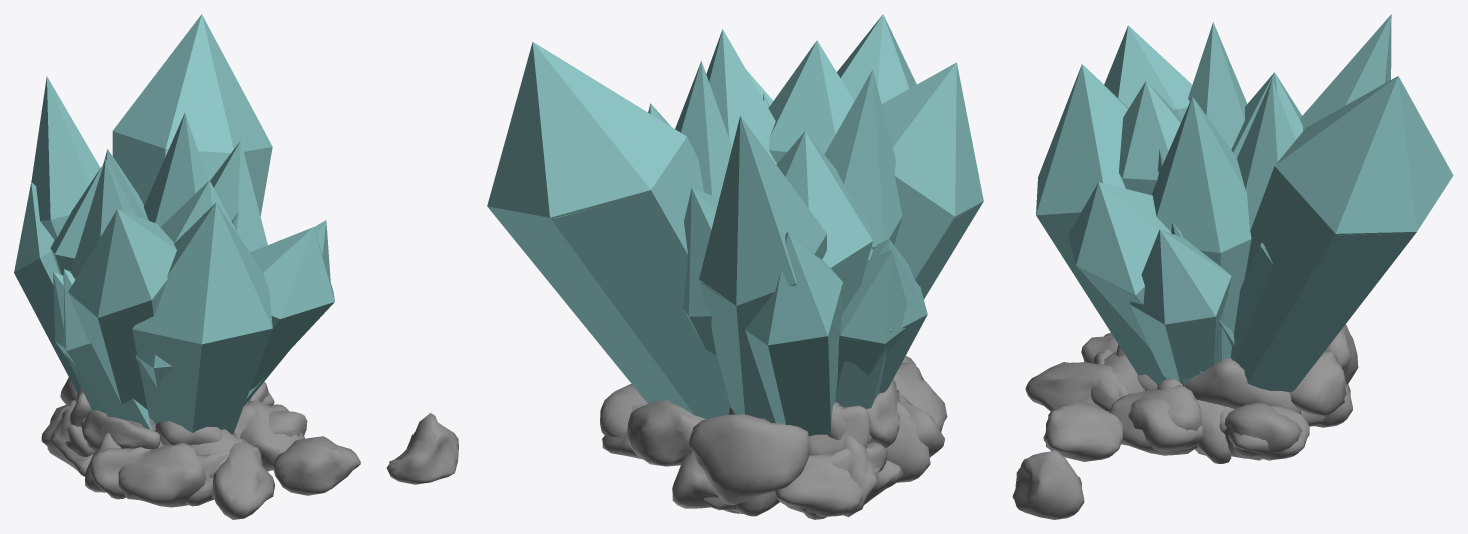
Rendered from Crystals.fbx.
3 views of the same model, side by side, from view 1: azimuth 30°, elevation 25°; view 2: azimuth 150°, elevation 25°; view 3: azimuth 270°, elevation 25° (orthographic). The views are drawn at different scales.
Parts seen in each view (by area): view 1: crystal_2, crystal_2_bevel, crystal_1, crystal_5, crystal_4, crystal_1_bevel, rocks_3, rock_1, crystal_4_bevel, rocks_5, rocks_2, rock_3 (+8 smaller); view 2: crystal_2, crystal_2_bevel, crystal_5, crystal_1, rocks_5, crystal_4, crystal_1_bevel, crystal_3, rocks_2, crystal_6, crystal_5_bevel, crystal_6_bevel (+5 smaller); view 3: crystal_2, crystal_2_bevel, crystal_4, crystal_3, crystal_5, rocks_5, crystal_4_bevel, rocks_2, crystal_1, rocks_3, crystal_6, rock_4 (+9 smaller).
Part boxes in pixels (<box>): crystal_2: <box>14,14,330,434</box>; crystal_2_bevel: <box>15,20,328,433</box>; crystal_1: <box>50,165,176,409</box>; crystal_5: <box>31,76,208,239</box>; crystal_4: <box>53,180,334,390</box>; crystal_1_bevel: <box>51,172,175,407</box>; rocks_3: <box>47,406,307,499</box>; rock_1: <box>118,443,206,507</box>; crystal_4_bevel: <box>54,192,333,385</box>; rocks_5: <box>60,377,250,451</box>; rocks_2: <box>41,381,304,506</box>; rock_3: <box>273,436,360,495</box>; crystal_2: <box>487,14,927,436</box>; crystal_2_bevel: <box>490,23,925,435</box>; crystal_5: <box>675,61,826,418</box>; crystal_1: <box>776,62,983,314</box>; rocks_5: <box>626,379,899,505</box>; crystal_4: <box>746,40,906,375</box>; crystal_1_bevel: <box>777,72,981,290</box>; crystal_3: <box>683,29,891,408</box>; rocks_2: <box>600,384,930,516</box>; crystal_6: <box>763,70,902,249</box>; crystal_5_bevel: <box>683,80,823,422</box>; crystal_6_bevel: <box>826,89,901,244</box>; crystal_2: <box>1036,64,1453,392</box>; crystal_2_bevel: <box>1037,70,1449,390</box>; crystal_4: <box>1068,81,1273,373</box>; crystal_3: <box>1156,96,1251,385</box>; crystal_5: <box>1237,14,1391,230</box>; rocks_5: <box>1116,324,1358,416</box>; crystal_4_bevel: <box>1069,93,1264,361</box>; rocks_2: <box>1093,349,1325,460</box>; crystal_1: <box>1104,25,1302,345</box>; rocks_3: <box>1091,351,1234,452</box>; crystal_6: <box>1158,22,1247,237</box>; rock_4: <box>1012,450,1084,519</box>.
Bounding box in the file's own units: 743 × 827 × 791.
